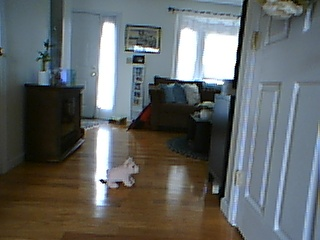piggy: (106, 156, 140, 190)
